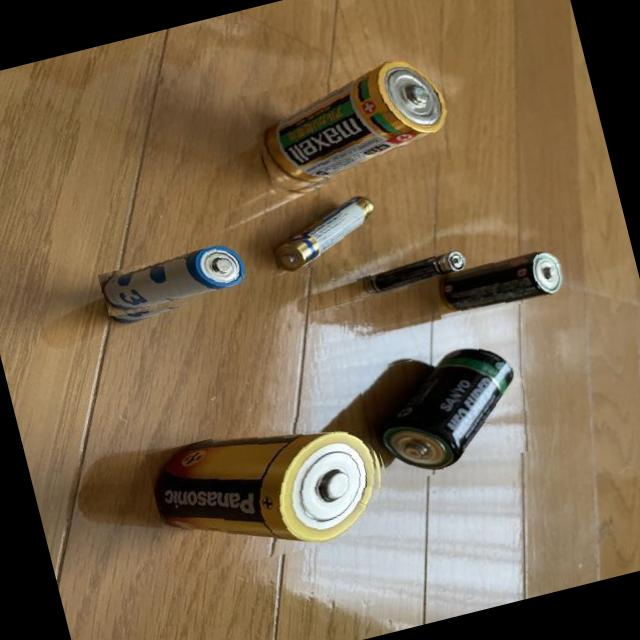Hazard: (144, 400, 396, 582), (238, 48, 460, 205), (353, 333, 538, 487), (96, 239, 252, 331), (262, 186, 390, 275), (428, 246, 570, 325), (354, 243, 474, 302)
